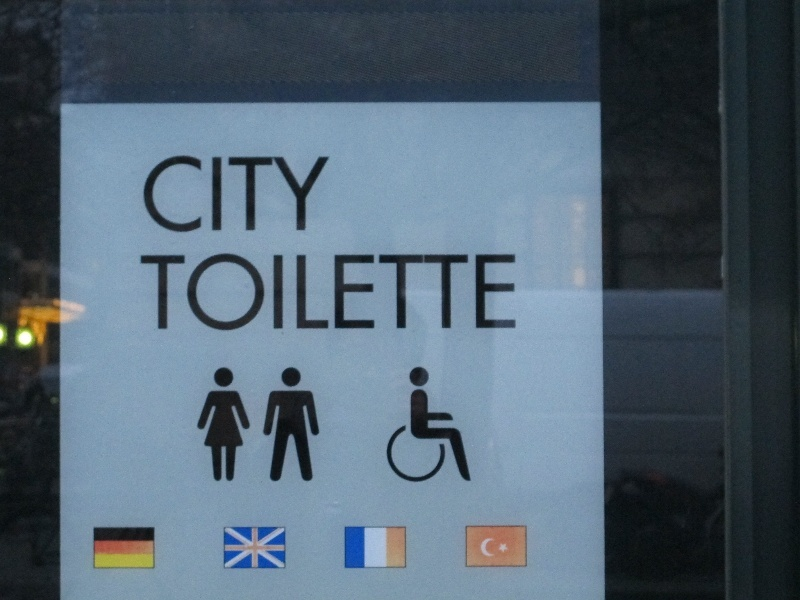text: (145, 154, 160, 233), (161, 154, 176, 233), (177, 154, 192, 233), (193, 154, 208, 233), (209, 154, 224, 233), (225, 154, 240, 233), (241, 154, 256, 233), (257, 154, 272, 233), (273, 154, 288, 233), (289, 154, 304, 233), (305, 154, 320, 233), (145, 256, 160, 331), (161, 256, 176, 331), (177, 256, 192, 331), (193, 256, 208, 331), (209, 256, 224, 331), (225, 256, 240, 331), (241, 256, 256, 331), (257, 256, 272, 331), (273, 256, 288, 331), (289, 256, 304, 331), (305, 256, 320, 331), (321, 256, 336, 331), (337, 256, 352, 331), (353, 256, 368, 331), (369, 256, 384, 331), (385, 256, 400, 331), (401, 256, 416, 331), (417, 256, 432, 331), (433, 256, 448, 331), (449, 256, 464, 331), (465, 256, 480, 331), (481, 256, 496, 331), (497, 256, 512, 331), (321, 154, 330, 233), (141, 256, 144, 331), (513, 256, 516, 331), (143, 154, 144, 233)
